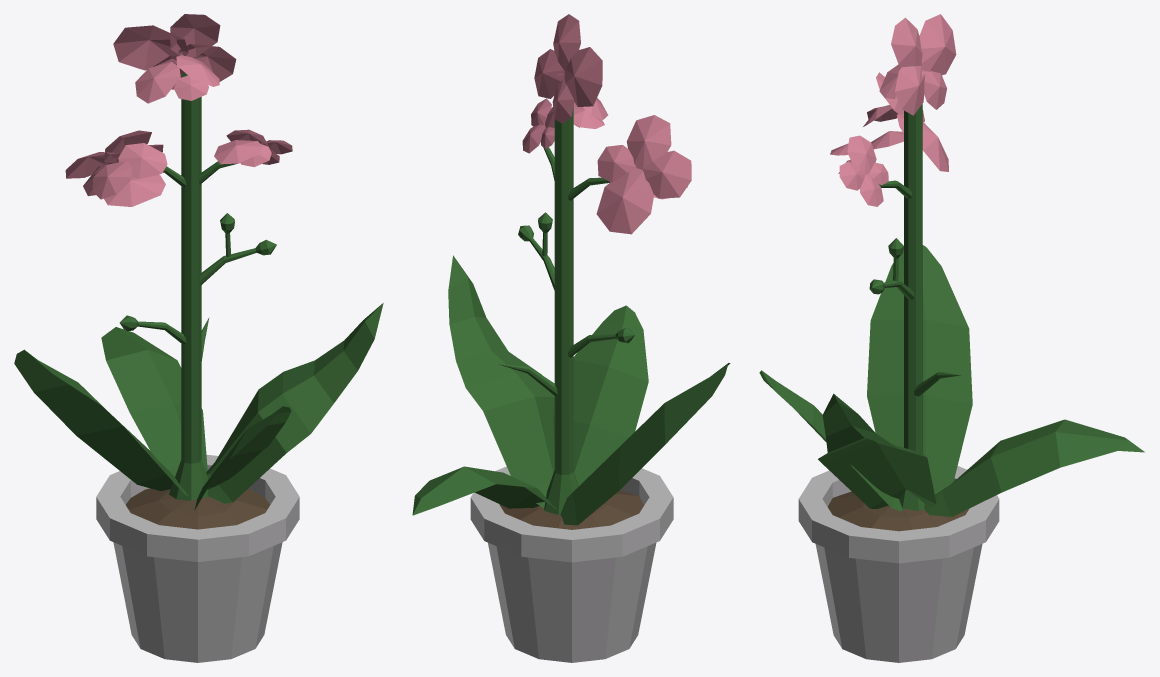
Rendered from SM_Plant_03.glb.
3 views of the same model, side by side, from view 1: azimuth 30°, elevation 25°; view 2: azimuth 150°, elevation 25°; view 3: azimuth 270°, elevation 25° (orthographic).
Parts seen in each view (by area): view 1: SM_Plant_03; view 2: SM_Plant_03; view 3: SM_Plant_03.
Boxes of the visible parts, bbox=[...] form: SM_Plant_03: bbox=[14, 14, 383, 662]; SM_Plant_03: bbox=[412, 14, 730, 662]; SM_Plant_03: bbox=[759, 14, 1144, 662].
Bounding box in the file's own units: 0.4414 × 0.8187 × 0.4675.
Materials: 1 (1 with a texture image).
